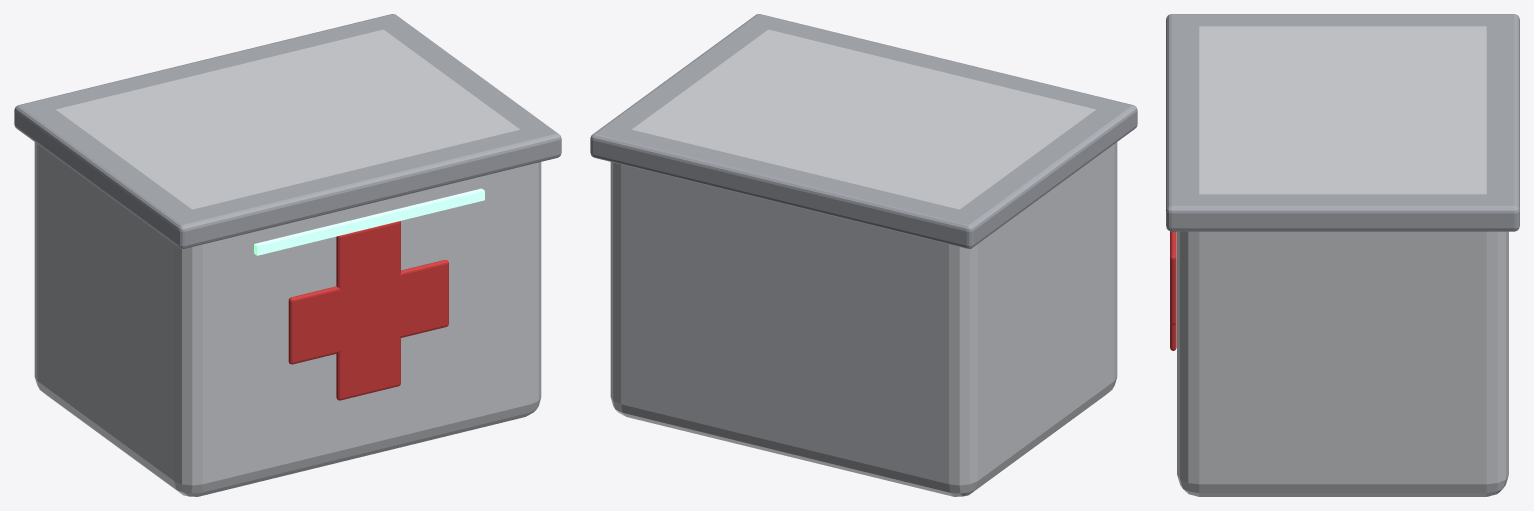
File: cargo_crate_medical.glb
3 views of the same model, side by side, from view 1: azimuth 30°, elevation 25°; view 2: azimuth 150°, elevation 25°; view 3: azimuth 270°, elevation 25° (orthographic). The views are drawn at different scales.
Visible parts, largest first — view 1: GD_cargo_crate_medical__m0, GD_cargo_crate_medical__m2, GD_cargo_crate_medical__m1, GD_cargo_crate_medical__m3; view 2: GD_cargo_crate_medical__m0, GD_cargo_crate_medical__m2; view 3: GD_cargo_crate_medical__m0, GD_cargo_crate_medical__m2, GD_cargo_crate_medical__m1.
Part boxes in pixels (x1=…): GD_cargo_crate_medical__m0: x1=34, y1=29, x2=541, y2=496; GD_cargo_crate_medical__m2: x1=14, y1=14, x2=561, y2=248; GD_cargo_crate_medical__m1: x1=288, y1=221, x2=448, y2=400; GD_cargo_crate_medical__m3: x1=254, y1=188, x2=484, y2=255; GD_cargo_crate_medical__m0: x1=610, y1=29, x2=1117, y2=496; GD_cargo_crate_medical__m2: x1=590, y1=14, x2=1137, y2=248; GD_cargo_crate_medical__m0: x1=1177, y1=26, x2=1508, y2=496; GD_cargo_crate_medical__m2: x1=1166, y1=14, x2=1519, y2=231; GD_cargo_crate_medical__m1: x1=1170, y1=231, x2=1176, y2=350.
Bounding box in the file's own units: 0.84 × 0.6 × 0.64.
